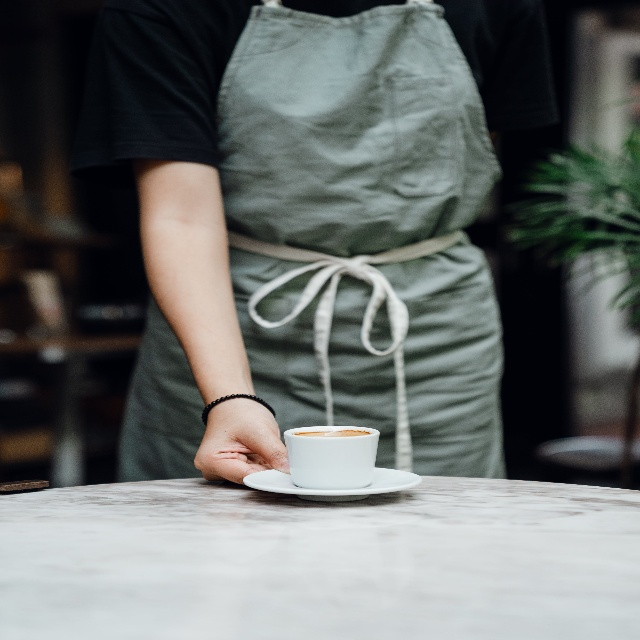Sin_guantes: (194, 405, 289, 479)
